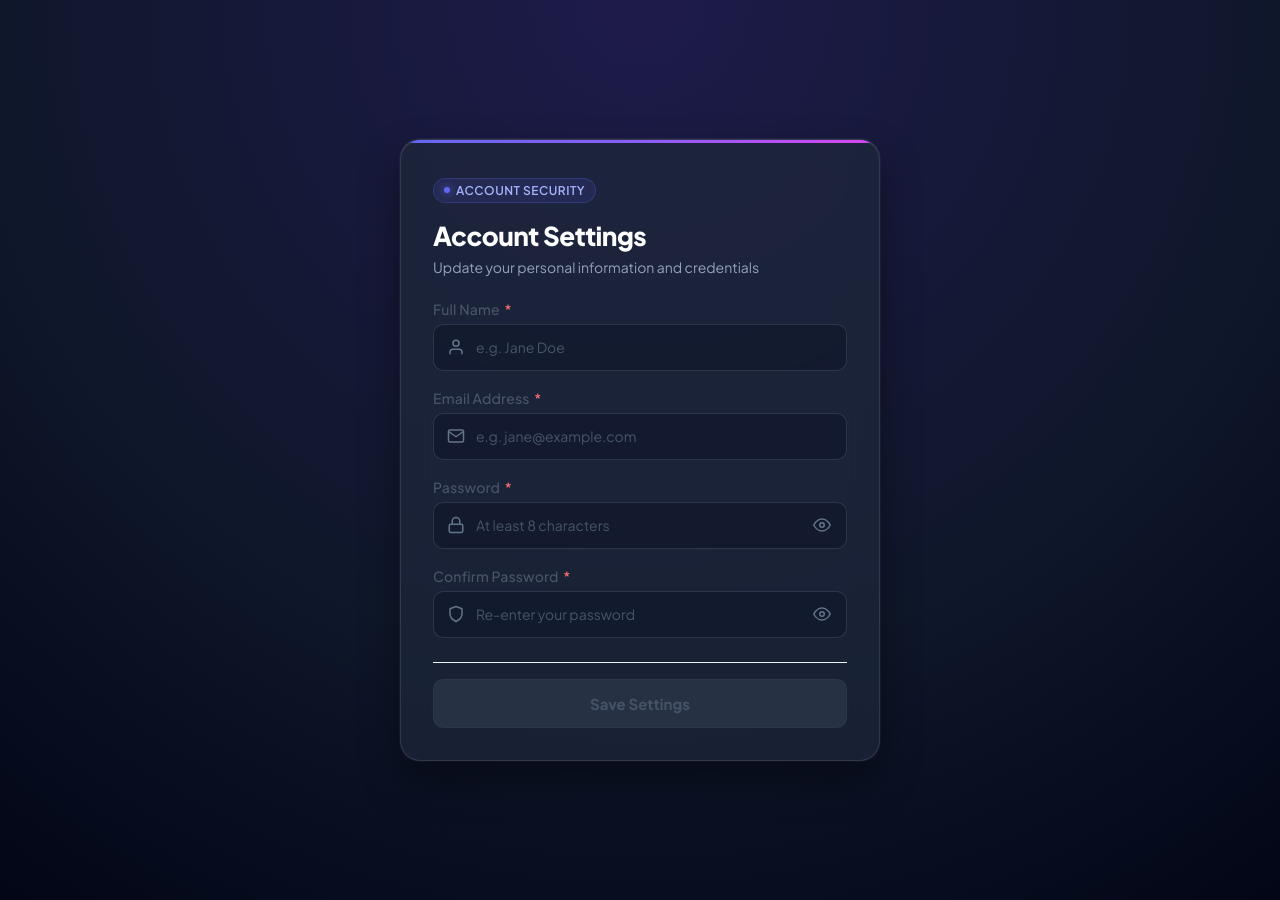
it: SettingsForm Component › shows password length validation error when password is less than 8 chars
Type "123" into the password field labelled "Password *".
click(640, 525); type("123")  # box [433, 502, 847, 549]
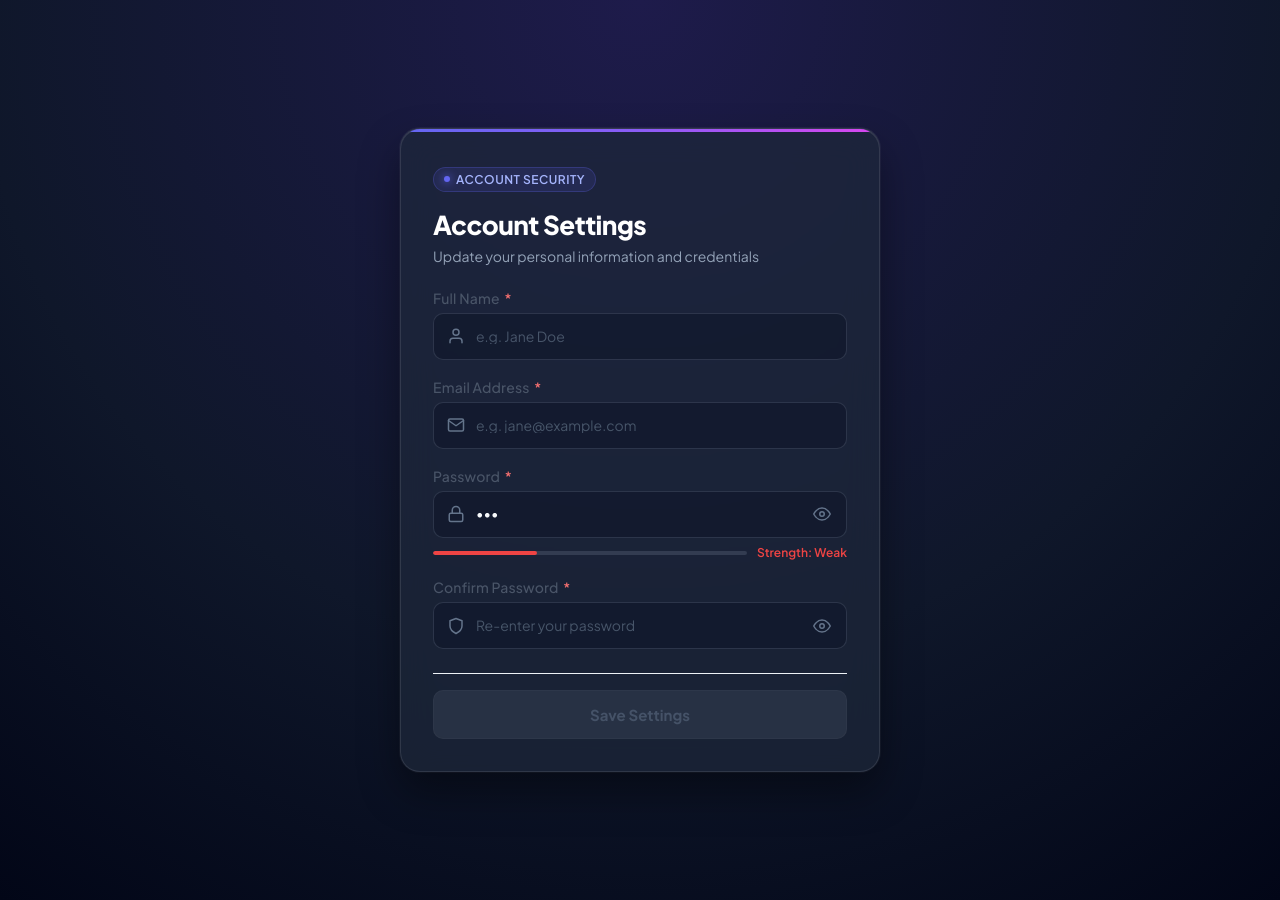
Leave the password field labelled "Password *", box [433, 490, 847, 537]
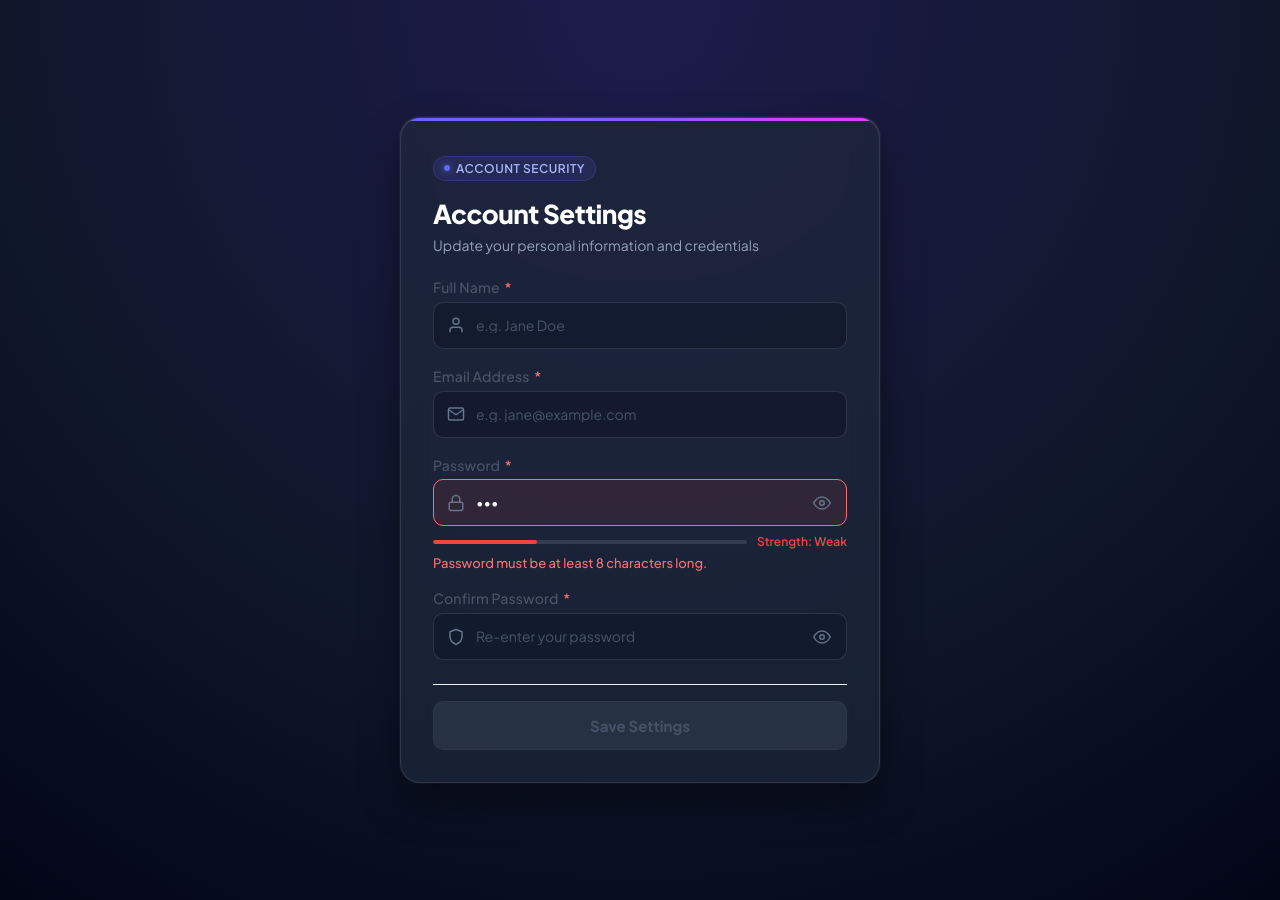
expect the text "Password must be at least 8 characters long." is shown: met, box [433, 555, 707, 571]
